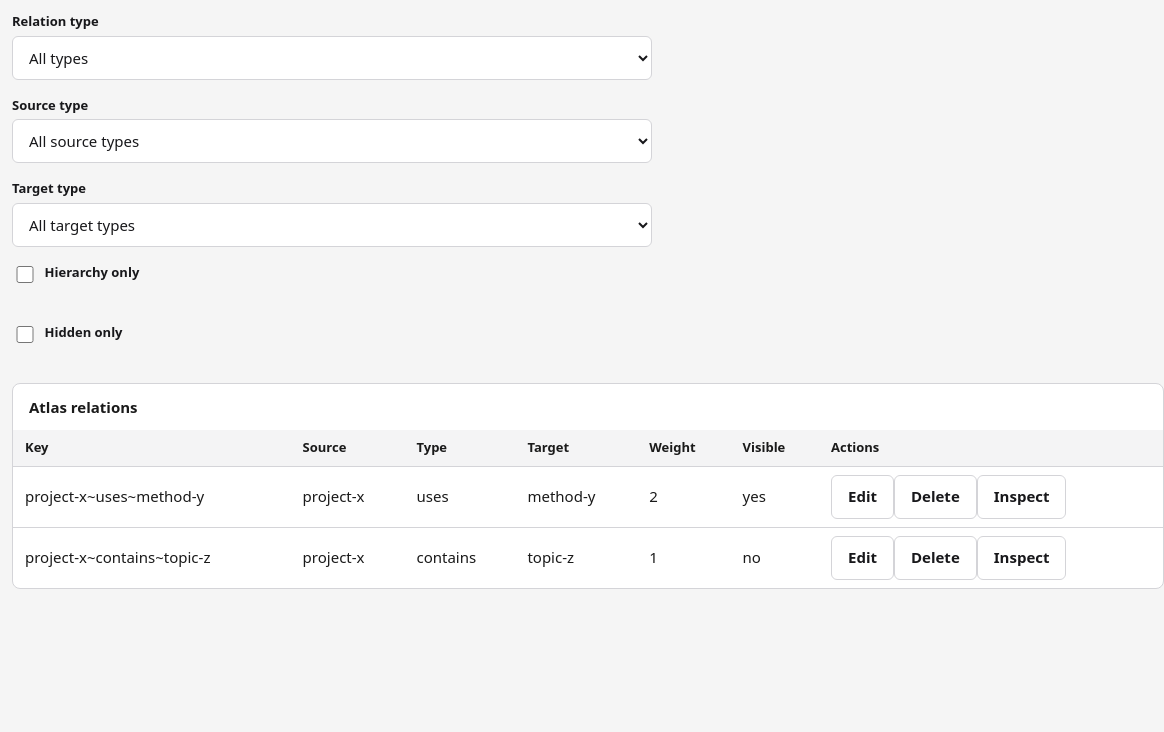
it: RelationTable (Plan B Task 12) › filters to hierarchy relations only when asked
The image size is (1164, 732).
Click the checkbox labelled "Hierarchy only": (25,274) x1=16 y1=266 x2=34 y2=283
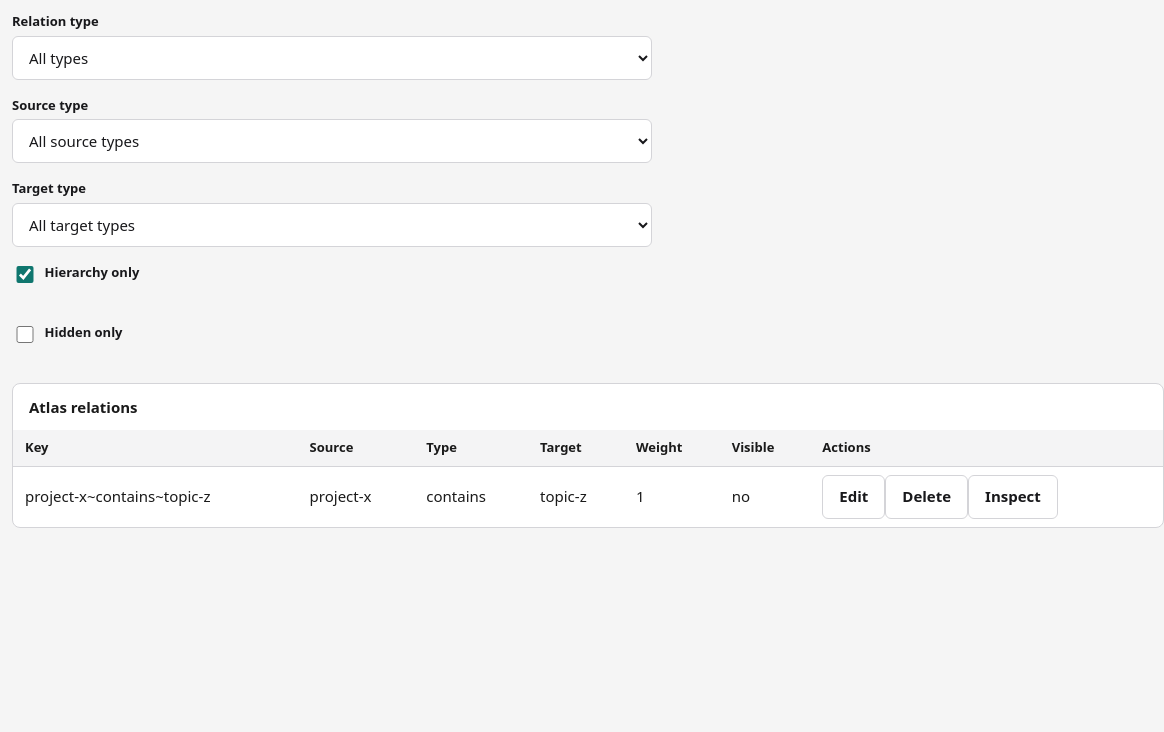
Expected: the text "project-x~contains~topic-z" is shown, x1=13 y1=466 x2=298 y2=526
Expected: the text "project-x~uses~method-y" is gone
